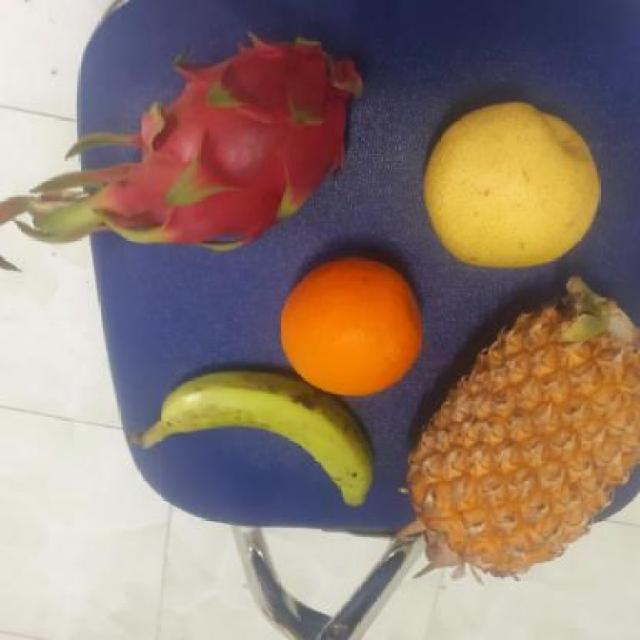banana: (152, 368, 385, 514)
dragon fruit: (113, 42, 365, 250)
oren: (282, 255, 431, 396)
pear: (427, 103, 607, 269)
pineapple: (418, 288, 639, 574)
